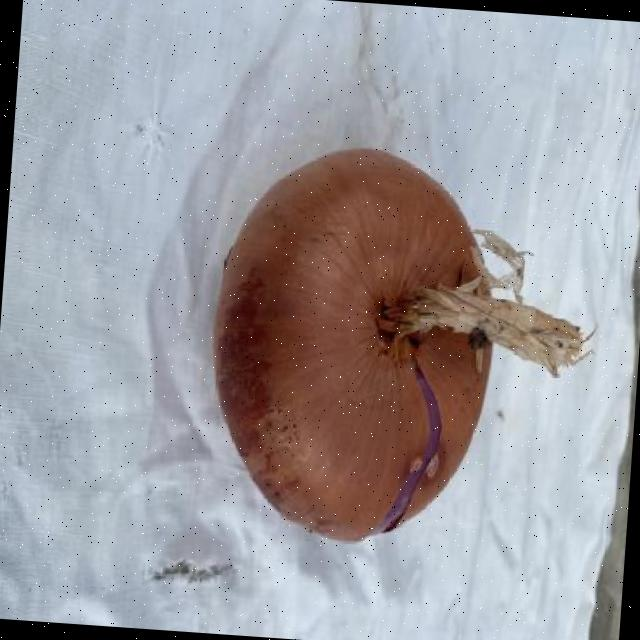Onion: (215, 149, 590, 543)
